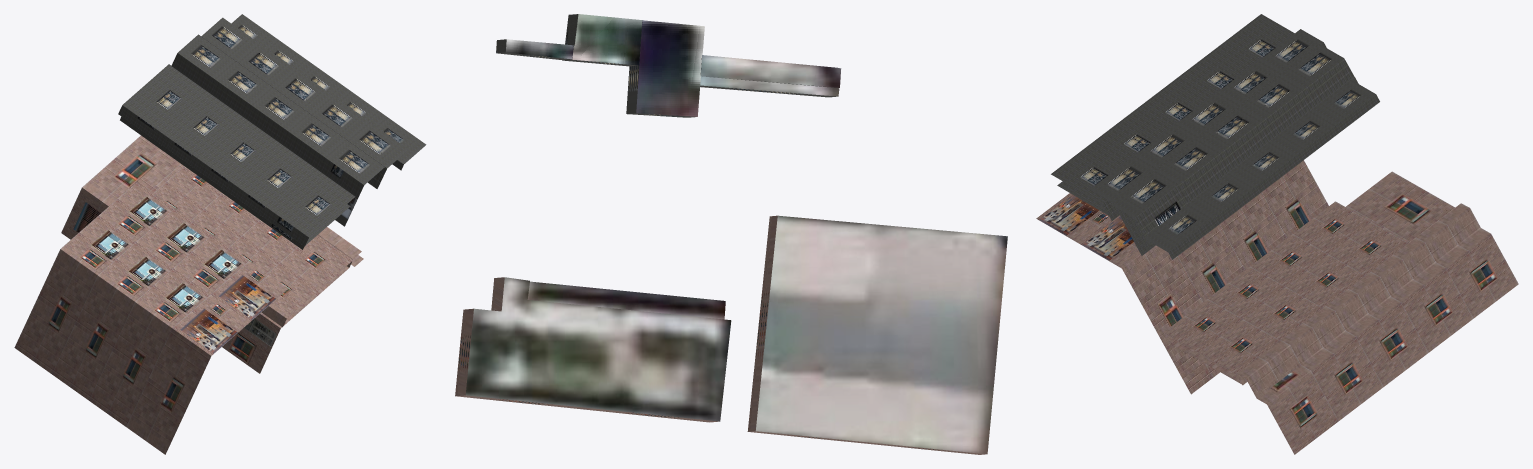
3 views of the same model, side by side, from view 1: azimuth 30°, elevation 25°; view 2: azimuth 150°, elevation 25°; view 3: azimuth 270°, elevation 25° (orthographic). The views are drawn at different scales.
Size of the model in its own units: 28.3 by 23.91 by 27.65.
32 materials, 32 textured.
